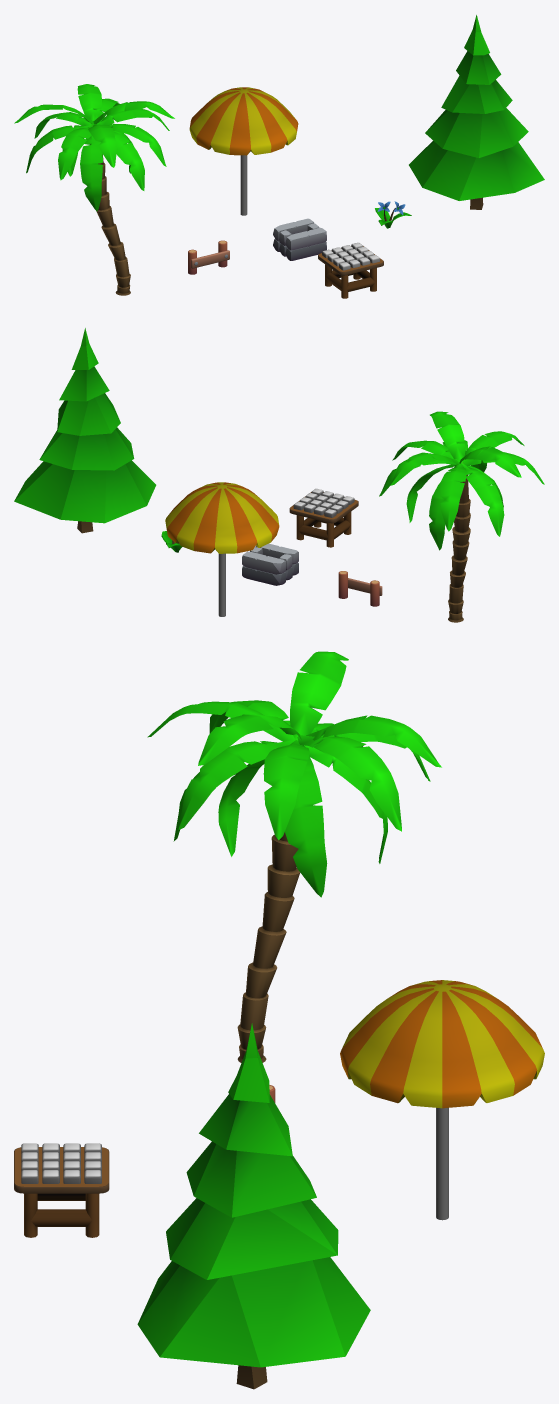
The model's file is outDoorAssets.fbx.
3 renders of one model, top to bottom at view 1: azimuth 30°, elevation 25°; view 2: azimuth 150°, elevation 25°; view 3: azimuth 270°, elevation 25°, orthographic. The views are drawn at different scales.
Visible parts, largest first — view 1: tree, palm, sunshade, table, fence, rock_long_1, flower, rock_long_3, rock_long_2; view 2: tree, palm, sunshade, table, fence, rock_long_2, rock_long_4, rock_long_1; view 3: tree, palm, sunshade, table.
Part boxes in pixels (bbox=[...]): tree: bbox=[409, 15, 544, 209]; palm: bbox=[14, 84, 174, 295]; sunshade: bbox=[189, 87, 298, 215]; table: bbox=[318, 246, 383, 298]; fence: bbox=[188, 240, 229, 274]; rock_long_1: bbox=[285, 227, 326, 250]; flower: bbox=[375, 201, 411, 228]; rock_long_3: bbox=[285, 241, 326, 260]; rock_long_2: bbox=[273, 218, 314, 241]; tree: bbox=[14, 328, 156, 533]; palm: bbox=[379, 411, 544, 622]; sunshade: bbox=[165, 482, 279, 616]; table: bbox=[289, 492, 358, 547]; fence: bbox=[338, 571, 382, 606]; rock_long_2: bbox=[242, 551, 285, 574]; rock_long_4: bbox=[242, 566, 285, 585]; rock_long_1: bbox=[255, 543, 298, 564]; tree: bbox=[137, 1023, 370, 1389]; palm: bbox=[147, 651, 441, 1062]; sunshade: bbox=[340, 980, 544, 1220]; table: bbox=[14, 1147, 109, 1237].
Bounding box in the file's own units: 1118 × 418 × 558.
